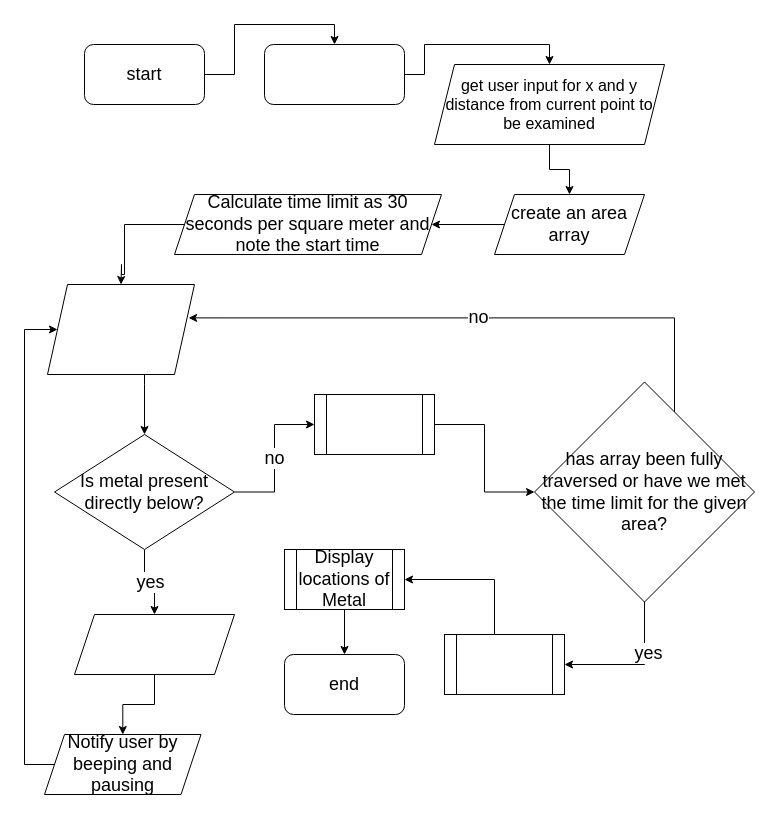
Some shapes in this 772 by 814 pixel diagram are drawn without their labels. The centre of each missing label's shape, as x and y in pixels:
"Make Motion Decision" goes at (x=374, y=424).
"Read IMU for metal detection" goes at (x=120, y=329).
"return to origin" goes at (x=504, y=664).
"store location of metal (x,y)" goes at (x=154, y=644).
"store orientation and set location as (0,0)" goes at (x=334, y=74).
